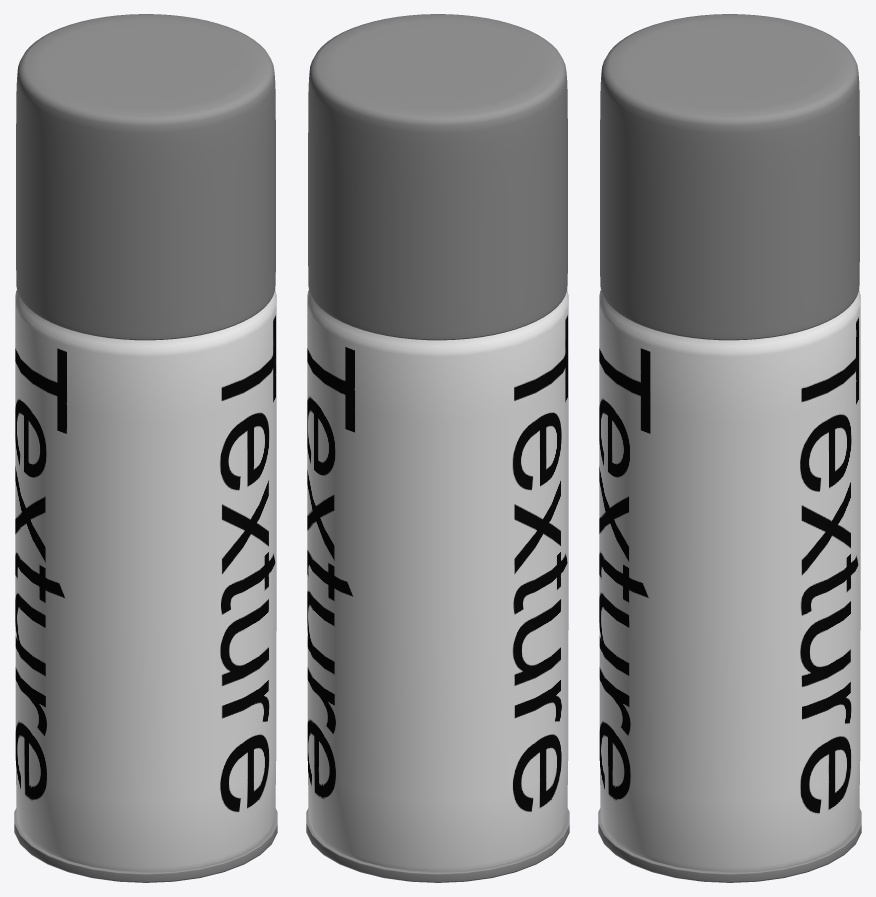
The model's file is Aerosol_Can.FBX.
The picture shows the model from 3 angles, left to right: view 1: azimuth 30°, elevation 25°; view 2: azimuth 150°, elevation 25°; view 3: azimuth 270°, elevation 25°; orthographic projection.
Visible parts, largest first — view 1: Label, Top, Can; view 2: Label, Top, Can; view 3: Label, Top, Can.
Part boxes in pixels (x1,y1,x2,y2): Label: (15, 290, 276, 871); Top: (16, 14, 275, 340); Can: (14, 808, 277, 882); Label: (307, 290, 568, 871); Top: (308, 14, 567, 340); Can: (306, 808, 569, 882); Label: (599, 290, 860, 871); Top: (600, 14, 859, 340); Can: (598, 808, 861, 882).
Size of the model in its own units: 11.28 by 35.82 by 11.22.
Materials: 2 (1 with a texture image).
